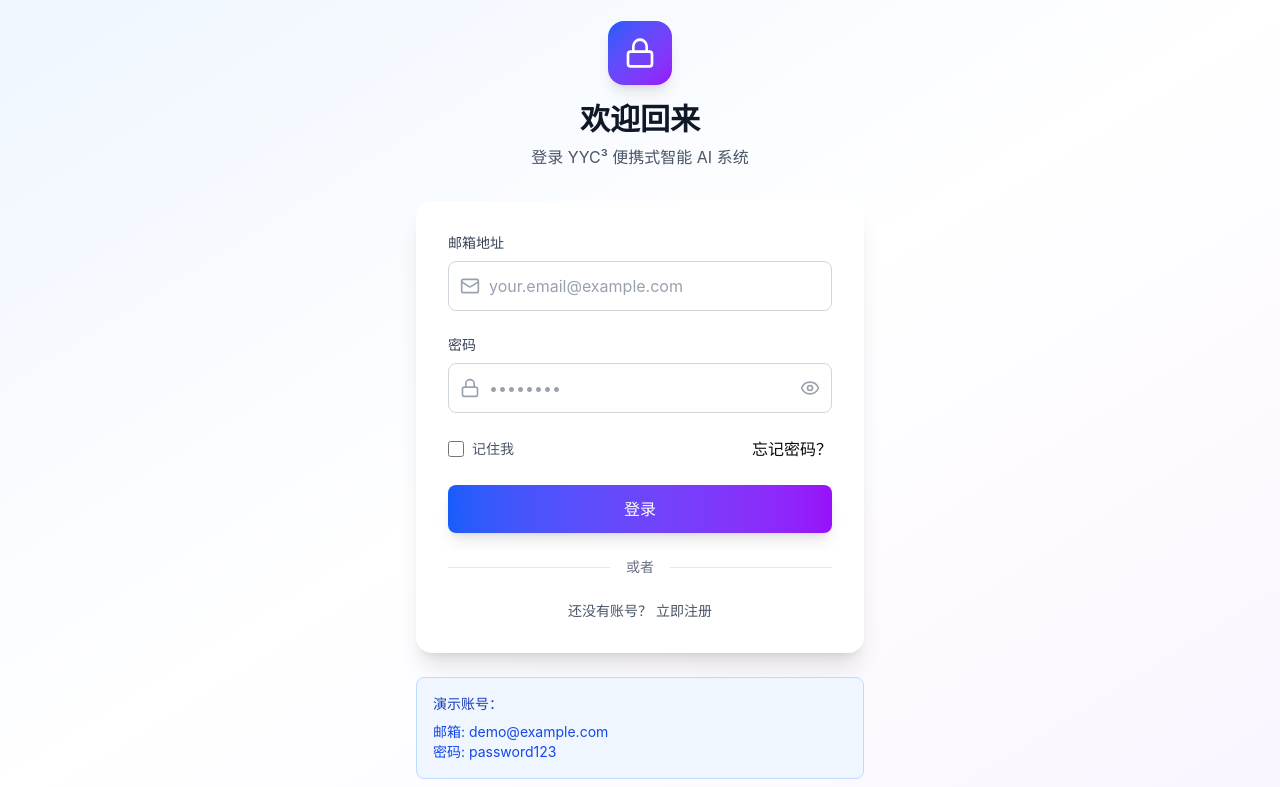
Scenario: LoginPage › 应该验证无效邮箱格式
The width and height of the screenshot is (1280, 787).
Step 1. Type "invalid-email" into the field with placeholder "your.email@example.com" → (640,286), box [448, 261, 832, 311]
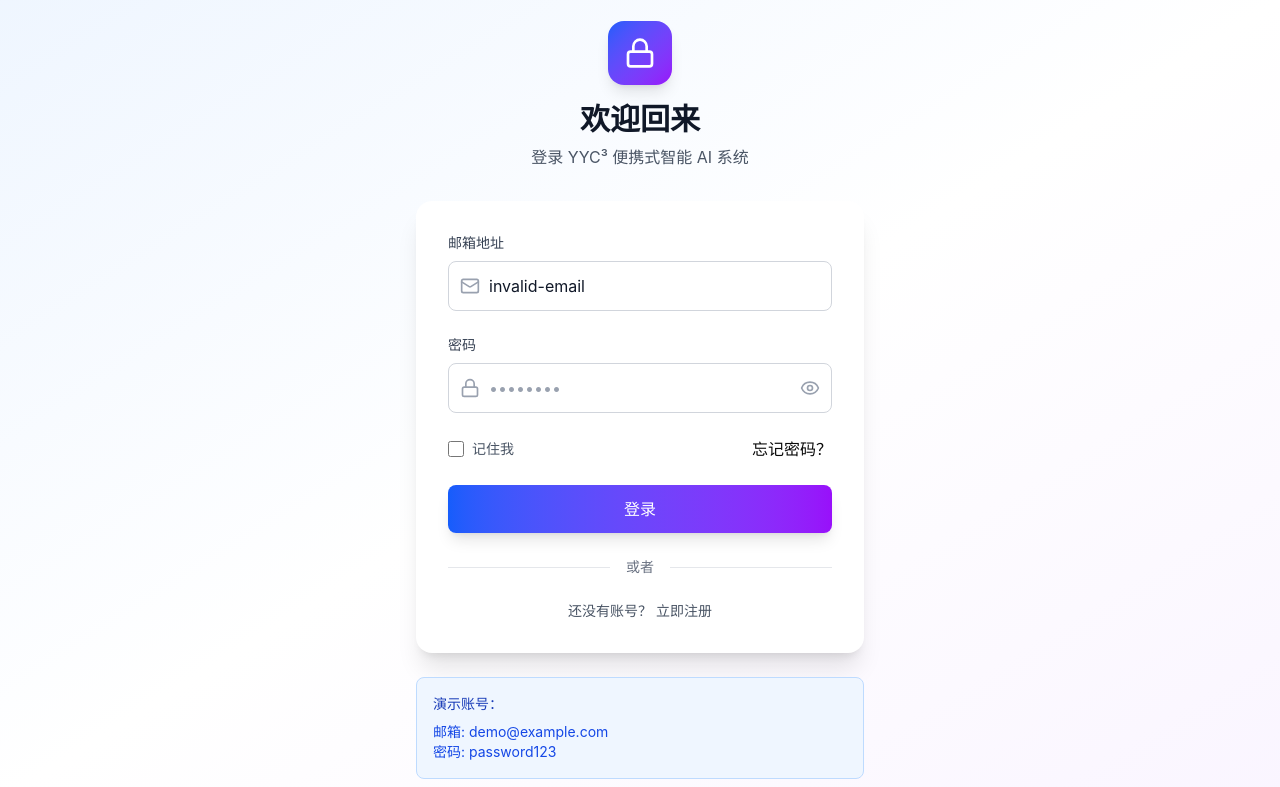
Step 2. Submit the form with placeholder "your.email@example.com", box [448, 233, 832, 533]
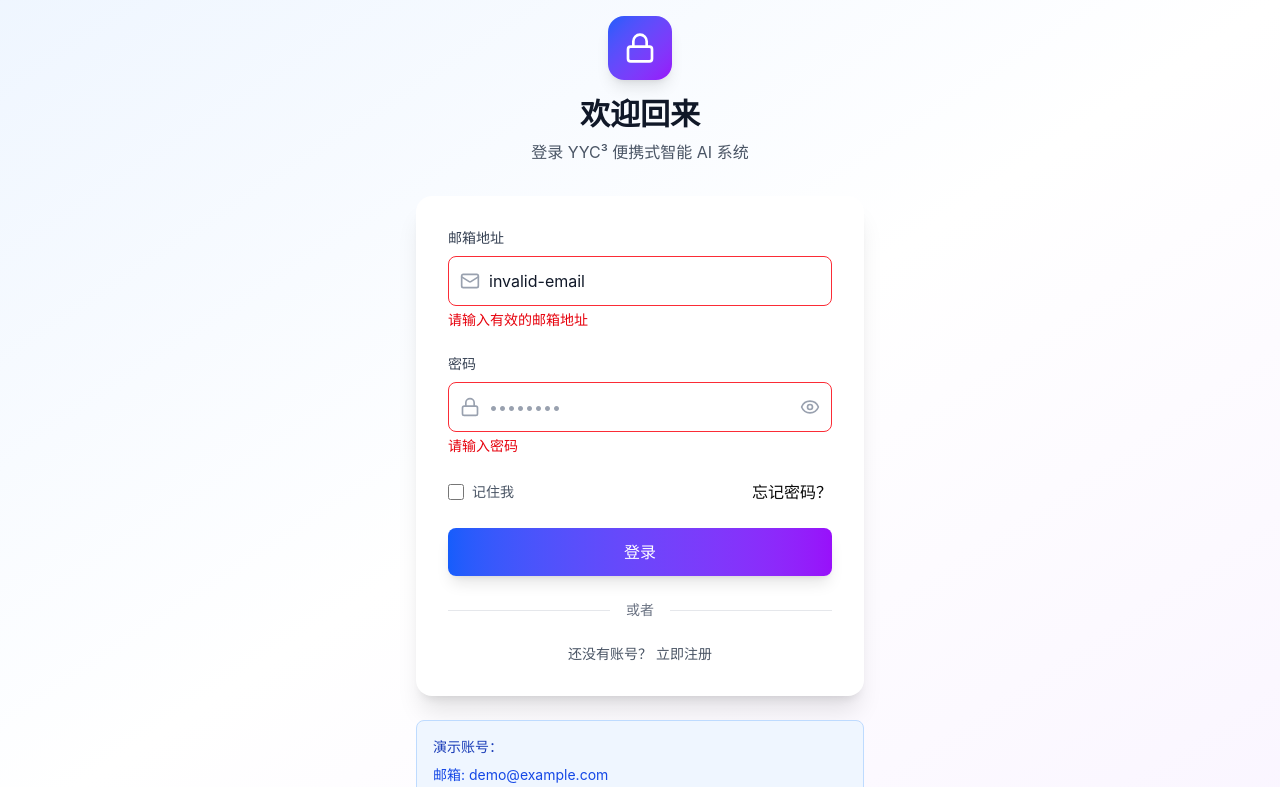
Check: the text "请输入有效的邮箱地址" is shown, box [448, 311, 588, 328]
